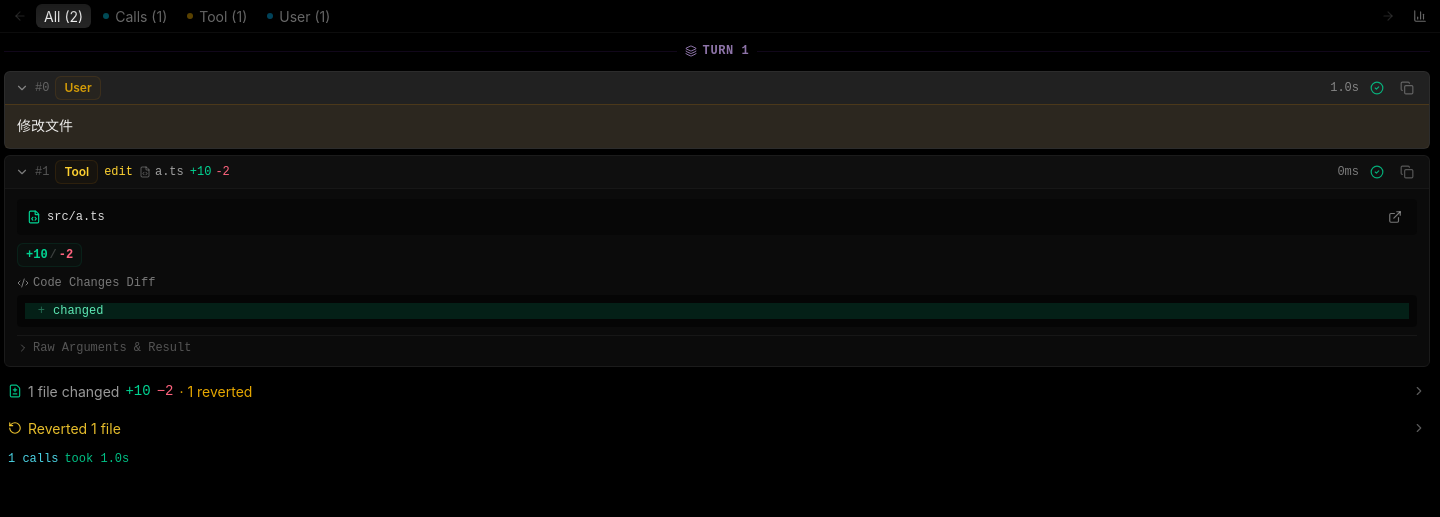
AgentExecutionFlowList 文件修改统计 › 源轮存在回退标记时在卡片后渲染已回退 item（可展开文件清单）
The image size is (1440, 517).
What coordinates should you click on to do the following:
click the button with class "agent-flow-file-revert-header"
I would click on:
 (74, 428)
Its box is [4,416,1430,441].
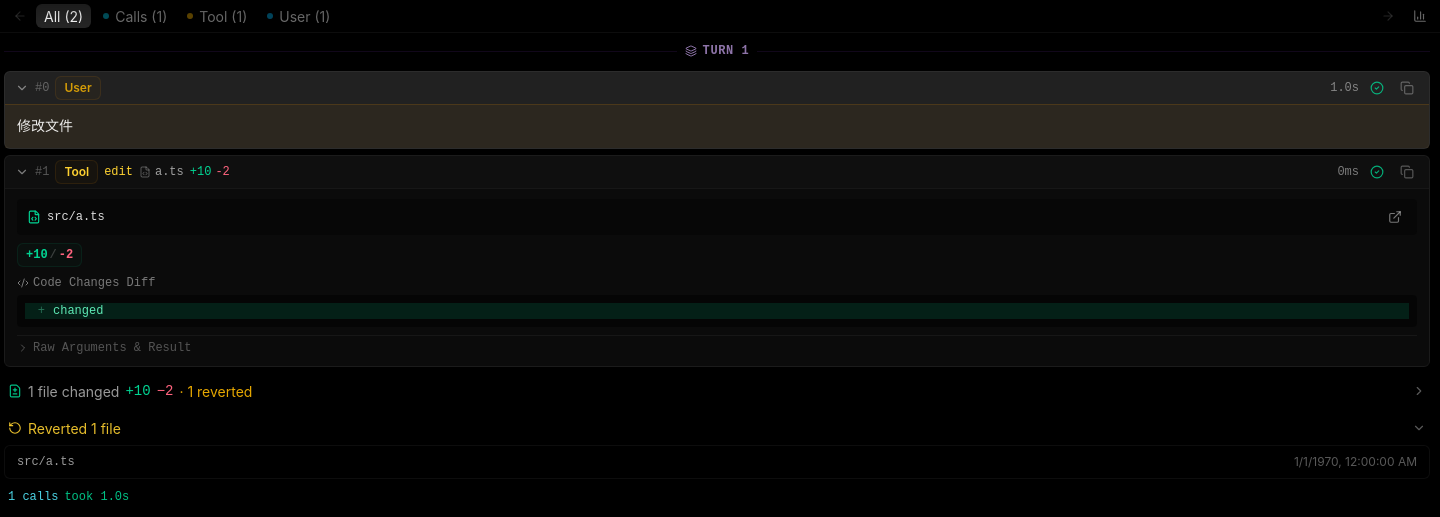
Expected: the element with class "agent-execution-flow-file-changes" is shown, [4,379,1430,404]
Result: the element with class "agent-flow-file-revert-list" is shown at [4,445,1430,479]
Result: the text with class "agent-flow-file-revert-path" reads "src/a.ts" at [17,455,75,469]
